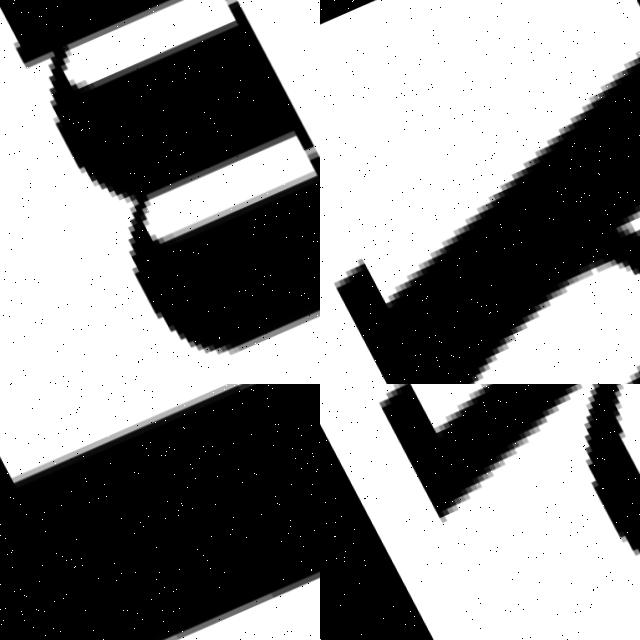H: (320, 384, 640, 640)
M: (0, 0, 320, 384)
P: (326, 54, 640, 384)
T: (0, 384, 320, 640)
